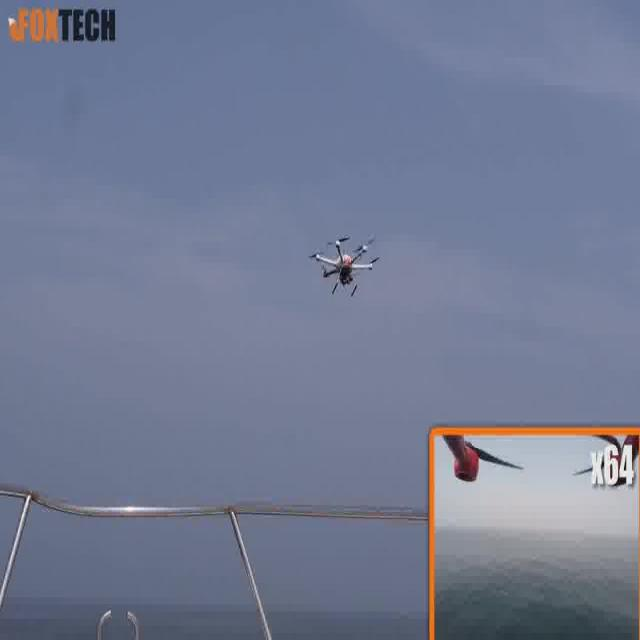drone: (310, 229, 380, 299)
